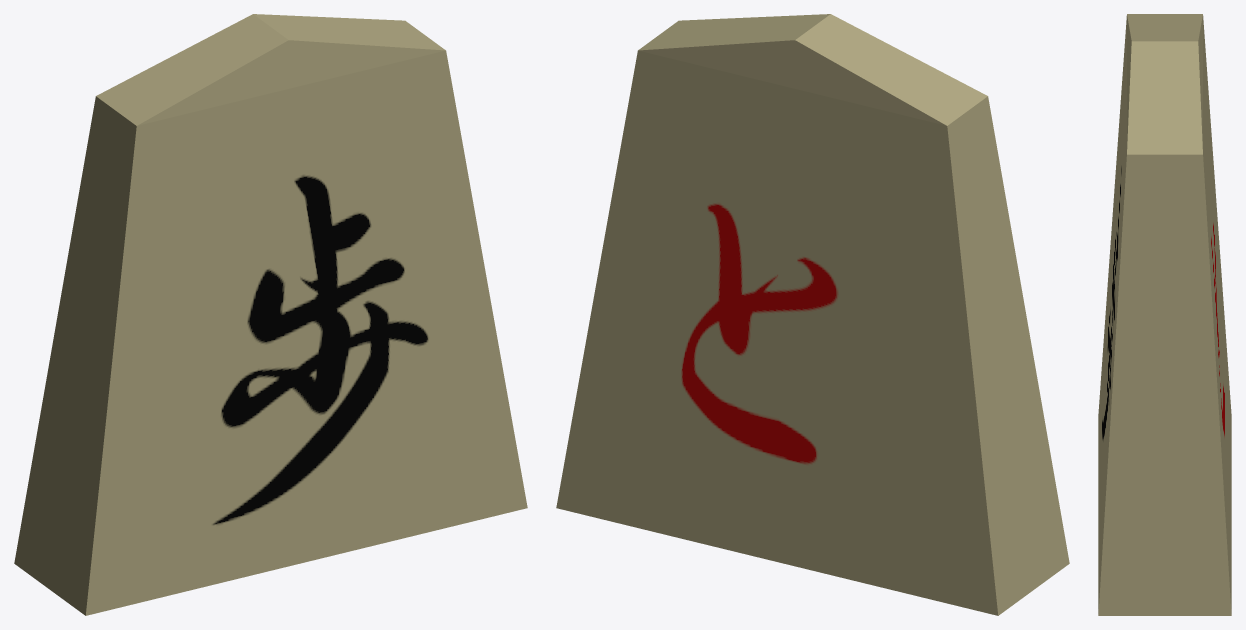
Rendered from Shogi.gltf.
The picture shows the model from 3 angles, left to right: view 1: azimuth 30°, elevation 25°; view 2: azimuth 150°, elevation 25°; view 3: azimuth 270°, elevation 25°; orthographic projection. The views are drawn at different scales.
Parts seen in each view (by area): view 1: mesh; view 2: mesh; view 3: mesh.
Boxes of the visible parts, x1,y1,x2,y2 form: mesh: (14,14,527,615); mesh: (556,14,1069,615); mesh: (1098,14,1231,615).
Size of the model in its own units: 1.6 by 1.76 by 0.448.
1 material, 1 textured.
